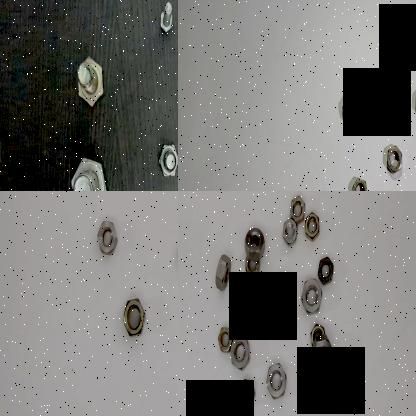Bolts: (66, 145, 110, 191), (75, 51, 105, 117), (155, 135, 178, 187), (153, 0, 177, 40)
NUTS: (120, 292, 148, 342), (270, 272, 291, 326), (299, 278, 327, 318), (311, 334, 335, 378), (244, 224, 268, 264), (212, 252, 233, 296), (265, 362, 287, 404), (230, 334, 252, 373), (97, 218, 117, 260), (312, 254, 336, 288), (382, 63, 402, 102), (289, 192, 307, 231), (384, 142, 404, 177), (304, 208, 323, 242), (238, 378, 258, 410), (215, 321, 233, 356), (310, 317, 328, 351), (340, 94, 359, 126), (282, 218, 300, 248), (242, 255, 262, 280), (350, 176, 370, 191)
